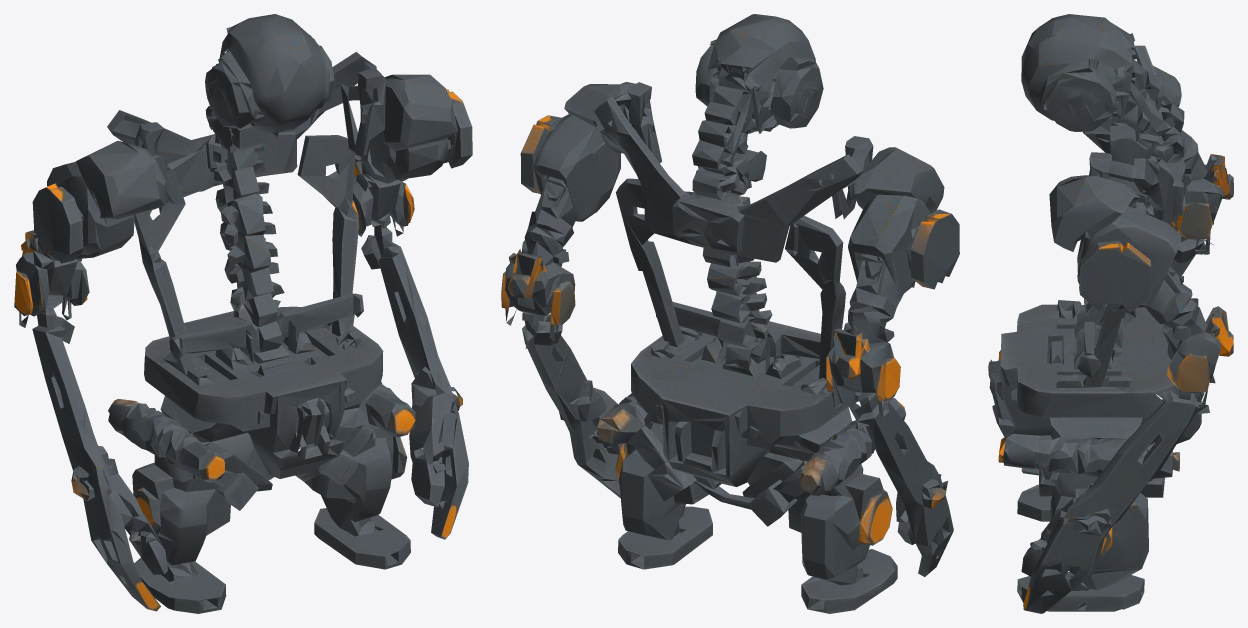
The model's file is exo_rack.glb.
The picture shows the model from 3 angles, left to right: view 1: azimuth 30°, elevation 25°; view 2: azimuth 150°, elevation 25°; view 3: azimuth 270°, elevation 25°; orthographic projection. The views are drawn at different scales.
Bounding box in the file's own units: 1.48 × 1.9 × 0.7912.
1 material, 1 textured.
